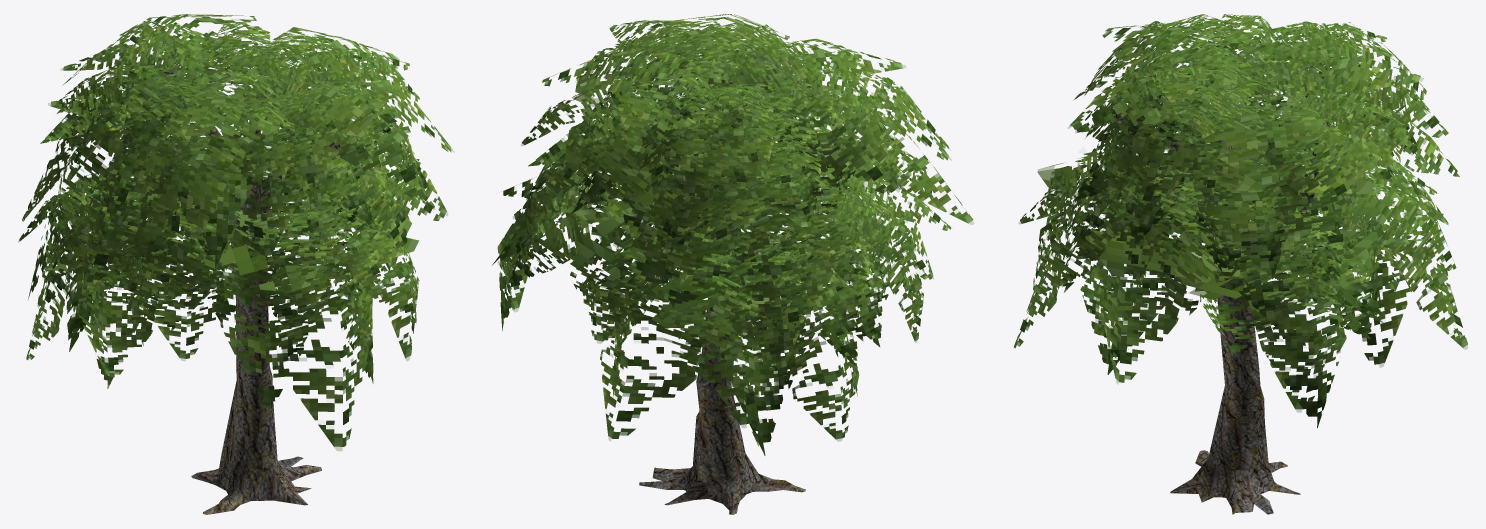
Rendered from oak.glb.
3 renders of one model, left to right at view 1: azimuth 30°, elevation 25°; view 2: azimuth 150°, elevation 25°; view 3: azimuth 270°, elevation 25°, orthographic.
Visible parts, largest first — view 1: Oak Tree, Oak Tree.001; view 2: Oak Tree, Oak Tree.001; view 3: Oak Tree, Oak Tree.001.
Part boxes in pixels (x1,y1,x2,y2): Oak Tree: (18, 14, 454, 450); Oak Tree.001: (113, 59, 340, 514); Oak Tree: (492, 14, 973, 455); Oak Tree.001: (639, 85, 805, 514); Oak Tree: (1013, 14, 1467, 428); Oak Tree.001: (1115, 64, 1360, 514).
Size of the model in its own units: 7.17 by 7.48 by 7.27.
Materials: 2 (2 with a texture image).
